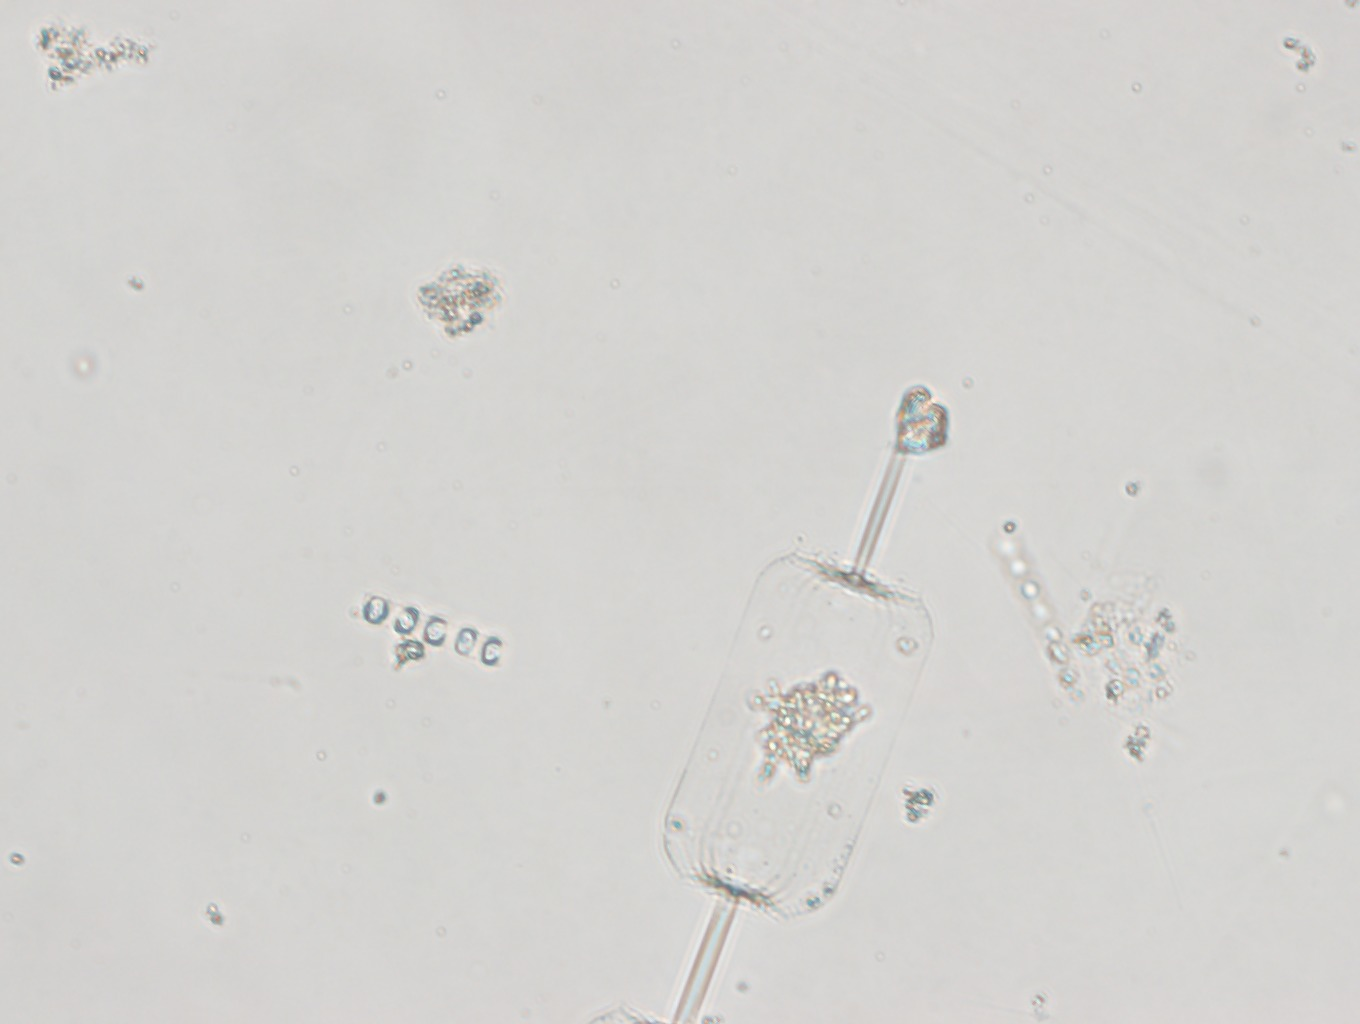biddulphia: (657, 444, 934, 1018)
skeletonema: (341, 585, 514, 675)
